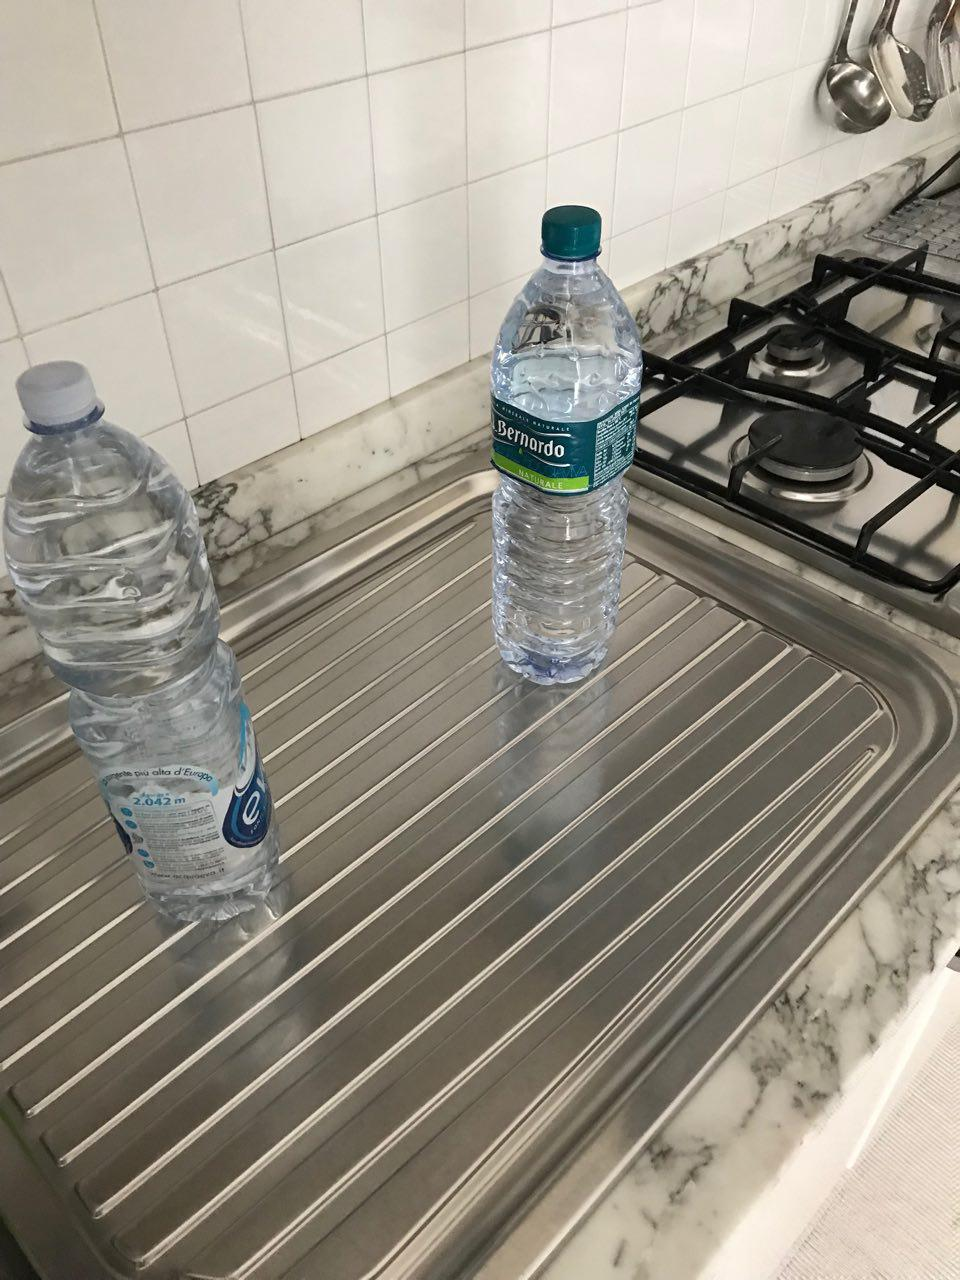san_bernardo: (489, 203, 643, 686)
